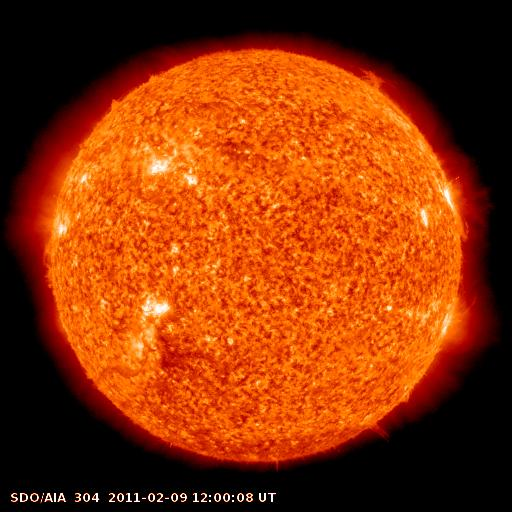prominence: (350, 55, 394, 102), (354, 407, 400, 447)
